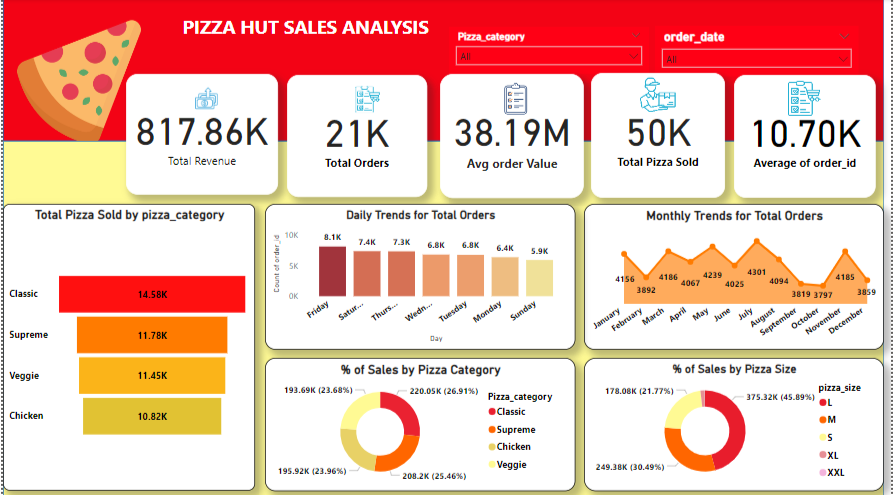

The page's visual inventory and layout, read from the dashboard file:
{"tool":"powerbi","page":{"name":"Complete Dashboard page1","canvas":[1280,720],"ordinal":0},"visuals":[{"type":"shape","box":[0,0,1268.2,204.9],"z":0},{"type":"image","box":[0,21.7,218.3,196.7],"z":2000},{"type":"shape","box":[0,204.9,1268.2,515.7],"z":2500},{"type":"textbox","box":[253.4,15.8,387.4,59],"z":3000},{"type":"slicer","fields":{"Values":["pizza_sales.pizza_category"]},"box":[641.7,40,288.3,68.3],"z":4000},{"type":"slicer","fields":{"Values":["pizza_sales.order_date"]},"box":[938.3,38.3,293.3,73.3],"z":5000},{"type":"card","fields":{"Values":["Sum(pizza_sales.total_price)"]},"box":[177.1,108.6,221.4,151.4],"z":6000},{"type":"card","fields":{"Values":["Count(pizza_sales.order_id)"]},"box":[412.9,110,201.4,151.4],"z":7000},{"type":"card","fields":{"Values":["Sum(pizza_sales.order_id)"]},"box":[621.4,108.6,202.9,152.9],"z":8000},{"type":"card","fields":{"Values":["Sum(pizza_sales.quantity)"]},"box":[842.9,111.4,195.7,152.9],"z":9000},{"type":"card","fields":{"Values":["Avg(pizza_sales.quantity)","Avg(pizza_sales.order_id)"]},"box":[1052.9,111.4,198.6,151.4],"z":10000},{"type":"image","box":[205.7,108.6,170,47.1],"z":11000},{"type":"image","box":[467.1,108.6,112.9,50],"z":12000},{"type":"image","box":[662.9,105.7,148.6,55.7],"z":13000},{"type":"image","box":[900,107.1,82.9,55.7],"z":14000},{"type":"image","box":[1140,108.6,91.4,52.9],"z":15000},{"type":"funnel","title":"Total Pizza Sold by pizza_category","fields":{"Category":["pizza_sales.pizza_category"],"Y":["CountNonNull(pizza_sales.order_id)"]},"box":[0,275,362.9,433.4],"z":16000},{"type":"stackedAreaChart","title":"Monthly Trends for Total Orders","fields":{"Y":["CountNonNull(pizza_sales.order_id)"],"Category":["pizza_sales.order_date.Variation.Date Hierarchy.Month"]},"box":[836.6,282.2,432,223.2],"z":17000},{"type":"columnChart","title":"Daily Trends for Total Orders","fields":{"Y":["CountNonNull(pizza_sales.order_id)"],"Category":["pizza_sales.Day"]},"box":[377.3,282.2,446.4,223.2],"z":18000},{"type":"donutChart","title":"% of Sales by Pizza Category","fields":{"Category":["pizza_sales.pizza_category"],"Y":["Sum(pizza_sales.total_price)"]},"box":[376.7,516.7,446.7,191.7],"z":19000},{"type":"donutChart","title":"% of Sales by Pizza Size","fields":{"Category":["pizza_sales.pizza_size"],"Y":["Sum(pizza_sales.total_price)"]},"box":[836.7,516.7,431.7,191.7],"z":20000}]}

Visuals, with their boxes in screenshot pixels (x1, y1, x2, y2), scaled from the page's 1280x720 canvas onto the 894x495 screenshot:
shape: bbox=[0, 0, 886, 141]
image: bbox=[0, 15, 152, 150]
shape: bbox=[0, 141, 886, 494]
textbox: bbox=[177, 11, 448, 51]
slicer - pizza_sales.pizza_category: bbox=[448, 28, 650, 74]
slicer - pizza_sales.order_date: bbox=[655, 26, 860, 77]
card - Sum(pizza_sales.total_price): bbox=[124, 75, 278, 179]
card - Count(pizza_sales.order_id): bbox=[288, 76, 429, 180]
card - Sum(pizza_sales.order_id): bbox=[434, 75, 576, 180]
card - Sum(pizza_sales.quantity): bbox=[589, 77, 725, 182]
card - Avg(pizza_sales.quantity) x Avg(pizza_sales.order_id): bbox=[735, 77, 874, 181]
image: bbox=[144, 75, 262, 107]
image: bbox=[326, 75, 405, 109]
image: bbox=[463, 73, 567, 111]
image: bbox=[629, 74, 686, 112]
image: bbox=[796, 75, 860, 111]
"Total Pizza Sold by pizza_category" funnel: bbox=[0, 189, 253, 487]
"Monthly Trends for Total Orders" stackedAreaChart: bbox=[584, 194, 886, 347]
"Daily Trends for Total Orders" columnChart: bbox=[264, 194, 575, 347]
"% of Sales by Pizza Category" donutChart: bbox=[263, 355, 575, 487]
"% of Sales by Pizza Size" donutChart: bbox=[584, 355, 886, 487]
